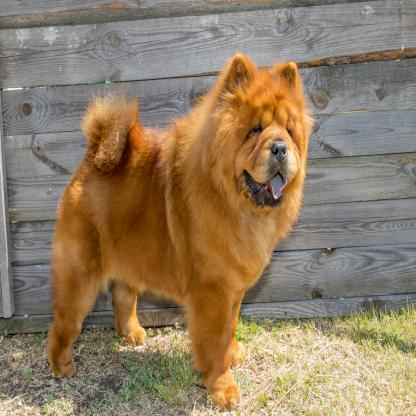Chowchow: (8, 29, 337, 416)
